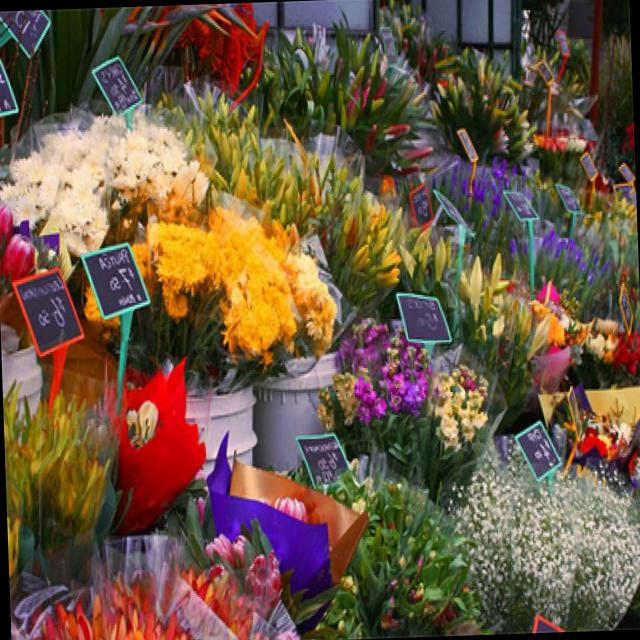bucket: (179, 377, 259, 488)
bucket crop: (253, 347, 342, 468), (3, 340, 42, 424)
flowers in pot: (188, 108, 434, 323), (78, 197, 337, 398), (13, 487, 315, 640), (440, 415, 640, 632), (399, 219, 582, 436), (284, 440, 467, 635), (0, 92, 205, 265), (433, 153, 640, 323), (319, 316, 490, 496), (5, 376, 124, 576), (334, 20, 455, 187), (541, 308, 640, 488), (252, 19, 340, 175), (432, 52, 540, 173), (180, 2, 270, 118), (0, 156, 52, 355), (377, 0, 465, 94), (531, 118, 599, 179), (126, 398, 162, 444), (258, 488, 311, 519)
paper cup with straws: (208, 426, 370, 626), (112, 354, 212, 533), (35, 281, 143, 417)
plants: (0, 4, 194, 145), (595, 30, 633, 178)
sign: (14, 263, 86, 411), (82, 237, 150, 388), (94, 53, 144, 131), (398, 291, 451, 363), (516, 419, 563, 496), (298, 428, 352, 486)
wall clock: (212, 0, 634, 139)
